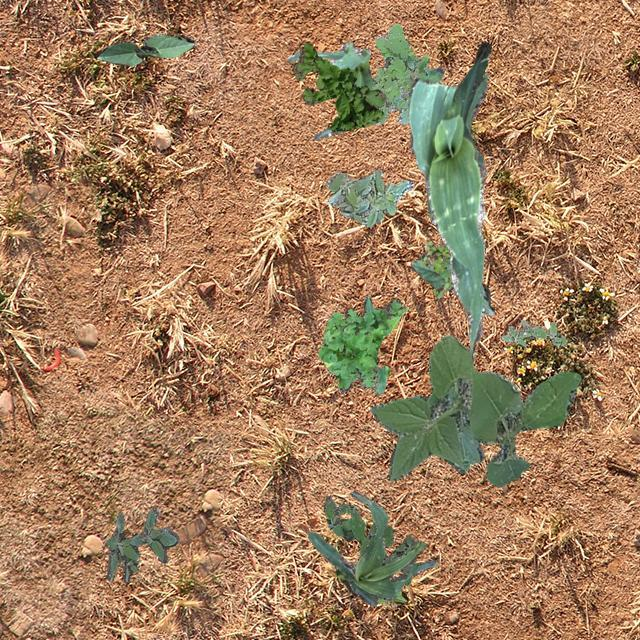crop: (406, 41, 491, 350), (306, 490, 436, 606), (287, 40, 373, 140), (409, 252, 494, 314), (95, 32, 194, 64), (332, 566, 407, 606)
weed: (370, 334, 580, 486), (322, 496, 426, 584), (318, 296, 406, 394), (292, 41, 384, 130), (372, 22, 442, 124), (104, 506, 178, 582), (324, 168, 412, 226), (501, 318, 566, 346), (420, 240, 452, 296)
